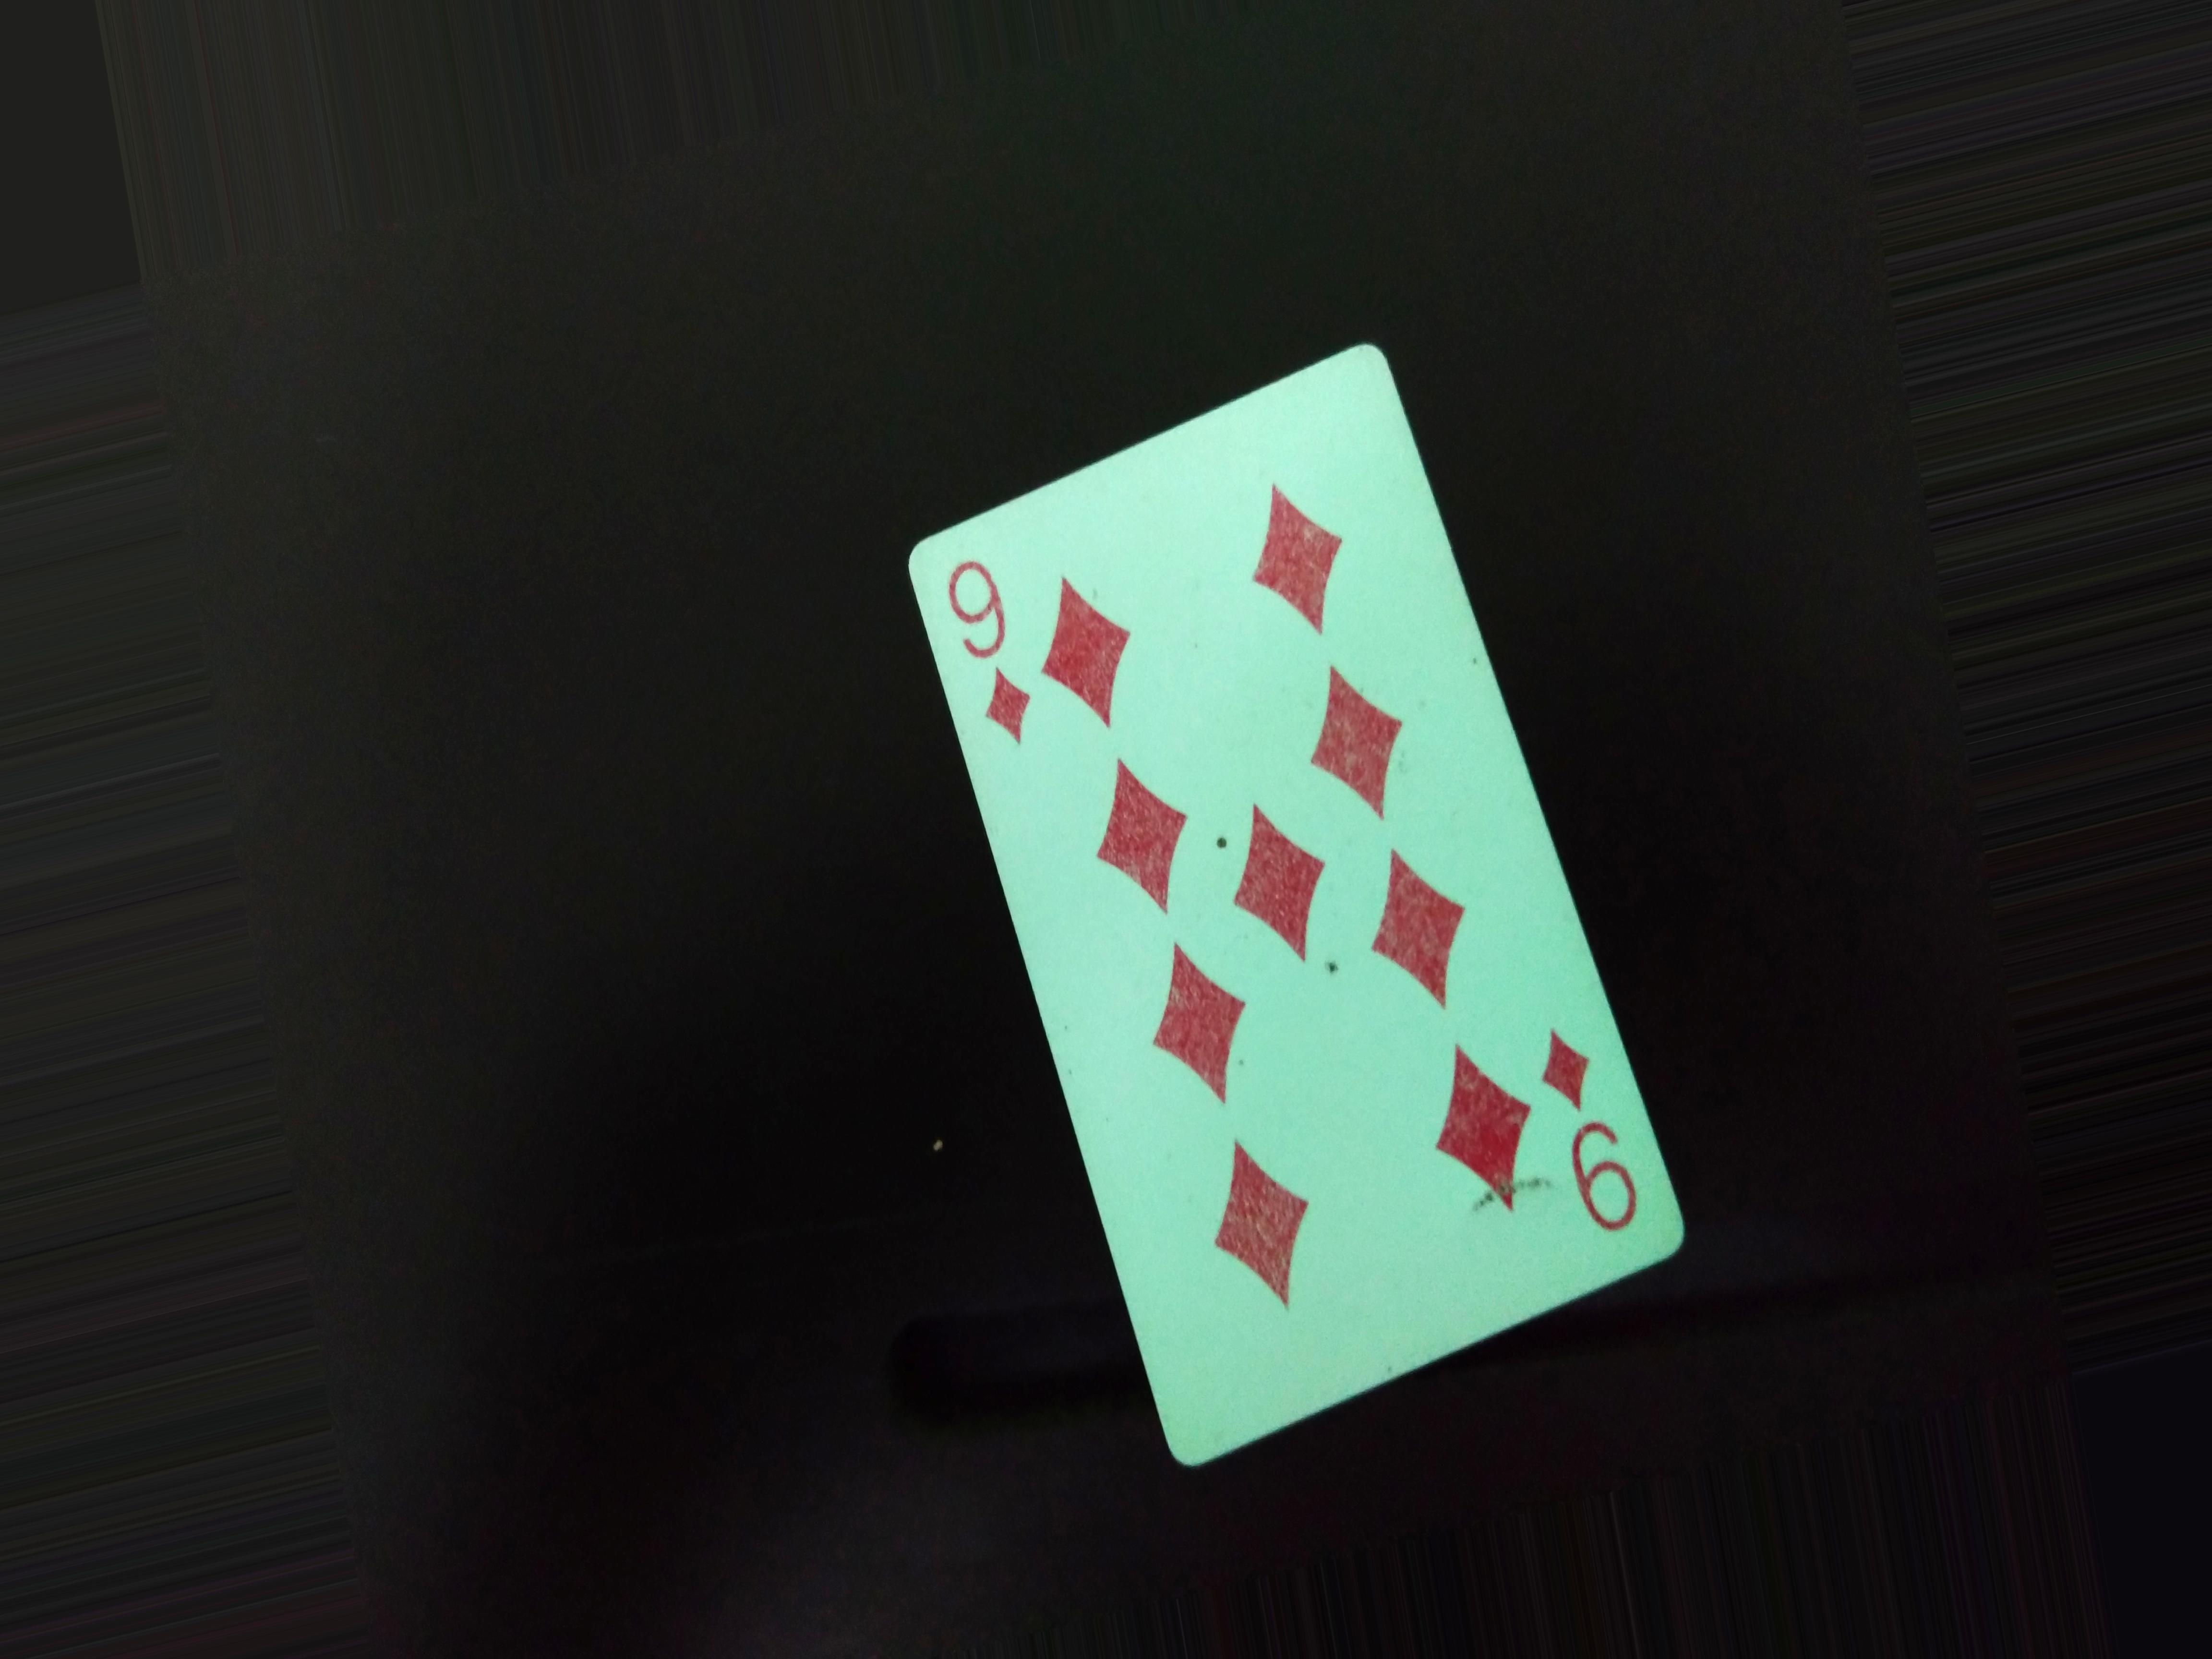9D: (1531, 1014, 1651, 1232)
